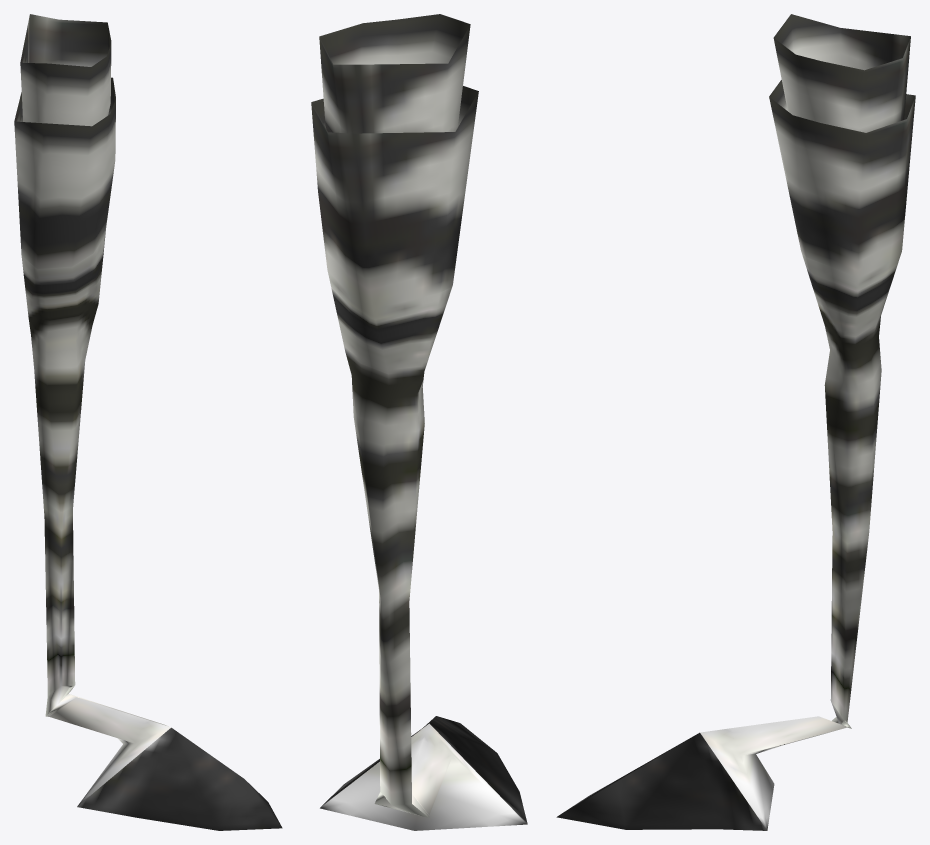
The model's file is cebra_pata_izq_enfr.obj.
3 renders of one model, left to right at view 1: azimuth 30°, elevation 25°; view 2: azimuth 150°, elevation 25°; view 3: azimuth 270°, elevation 25°, orthographic. The views are drawn at different scales.
Visible parts, largest first — view 1: cebra_pata_izq_enfr; view 2: cebra_pata_izq_enfr; view 3: cebra_pata_izq_enfr.
Boxes of the visible parts, left/top/right/bottom form: cebra_pata_izq_enfr: left=14, top=14, right=282, bottom=830; cebra_pata_izq_enfr: left=311, top=14, right=527, bottom=830; cebra_pata_izq_enfr: left=556, top=14, right=915, bottom=830.
Bounding box in the file's own units: 5.87 × 26.05 × 11.4.
1 material, 1 textured.
